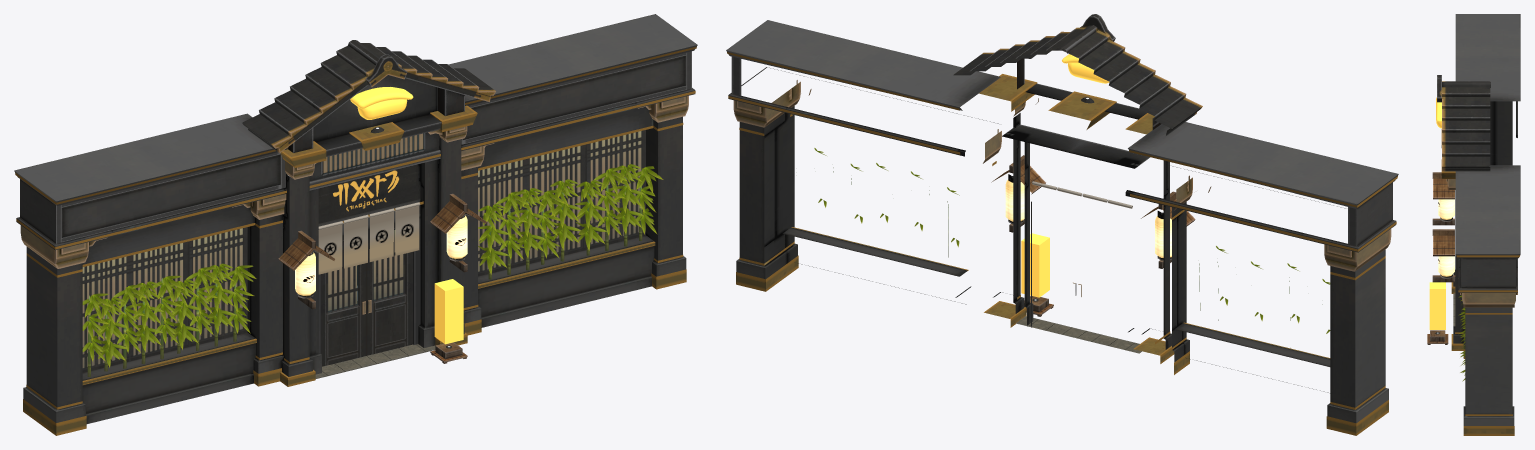
The model's file is t1_b_restaurant_rolling.glb.
3 views of the same model, side by side, from view 1: azimuth 30°, elevation 25°; view 2: azimuth 150°, elevation 25°; view 3: azimuth 270°, elevation 25° (orthographic). The views are drawn at different scales.
Visible parts, largest first — view 1: nomerge_t1_b_restaurant_rolling_model_mesh6, nomerge_t1_b_restaurant_rolling_holo_mesh, nomerge_t1_b_restaurant_rolling_sushi_model_mesh; view 2: nomerge_t1_b_restaurant_rolling_model_mesh6, nomerge_t1_b_restaurant_rolling_holo_mesh; view 3: nomerge_t1_b_restaurant_rolling_model_mesh6, nomerge_t1_b_restaurant_rolling_holo_mesh, nomerge_t1_b_restaurant_rolling_sushi_model_mesh.
Boxes of the visible parts, left/top/right/bottom form: nomerge_t1_b_restaurant_rolling_model_mesh6: left=14, top=14, right=697, bottom=435; nomerge_t1_b_restaurant_rolling_holo_mesh: left=434, top=279, right=463, bottom=344; nomerge_t1_b_restaurant_rolling_sushi_model_mesh: left=350, top=87, right=413, bottom=119; nomerge_t1_b_restaurant_rolling_model_mesh6: left=726, top=14, right=1398, bottom=435; nomerge_t1_b_restaurant_rolling_holo_mesh: left=1021, top=233, right=1049, bottom=297; nomerge_t1_b_restaurant_rolling_model_mesh6: left=1427, top=14, right=1520, bottom=435; nomerge_t1_b_restaurant_rolling_holo_mesh: left=1429, top=282, right=1445, bottom=329; nomerge_t1_b_restaurant_rolling_sushi_model_mesh: left=1436, top=97, right=1441, bottom=128.
Bounding box in the file's own units: 12.17 × 5.71 × 2.
4 materials, 3 textured.
